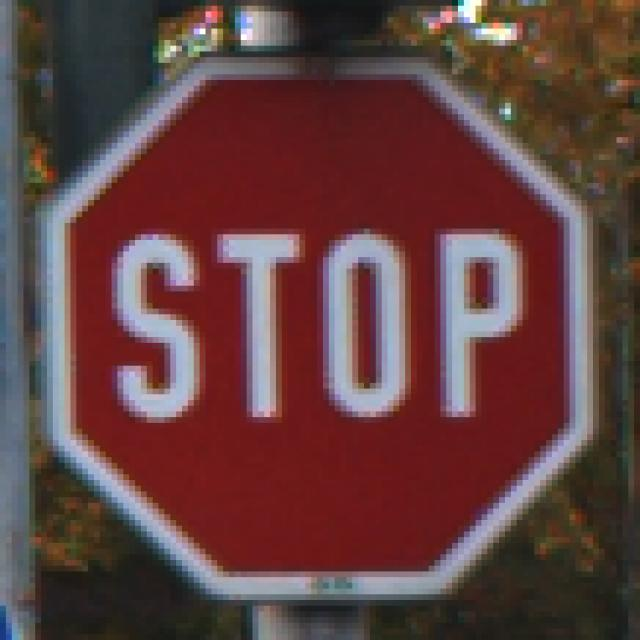STOP: (54, 53, 588, 590)
